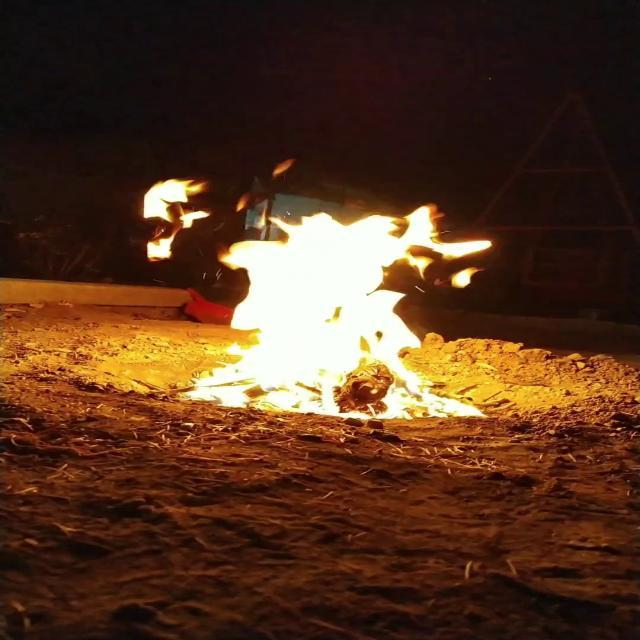Fire: (199, 195, 494, 422), (122, 175, 214, 262)
